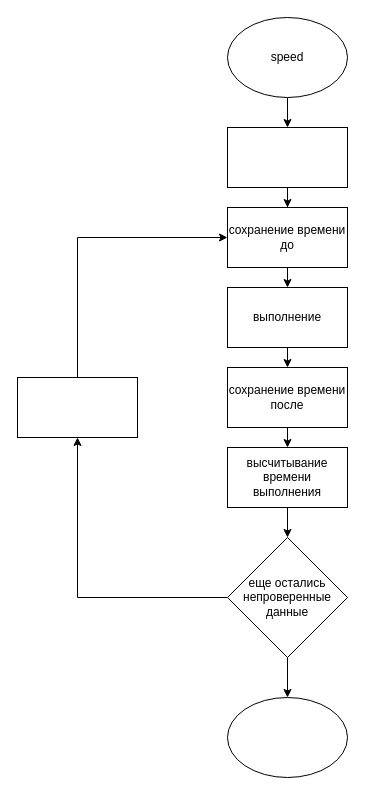
This 365x795 diagram has some shape labels left out. The centre of each missing label's shape, as x and y in pixels:
завершение: point 287,737
определение входных данных: point 287,157
проверка следующих данных: point 77,407
